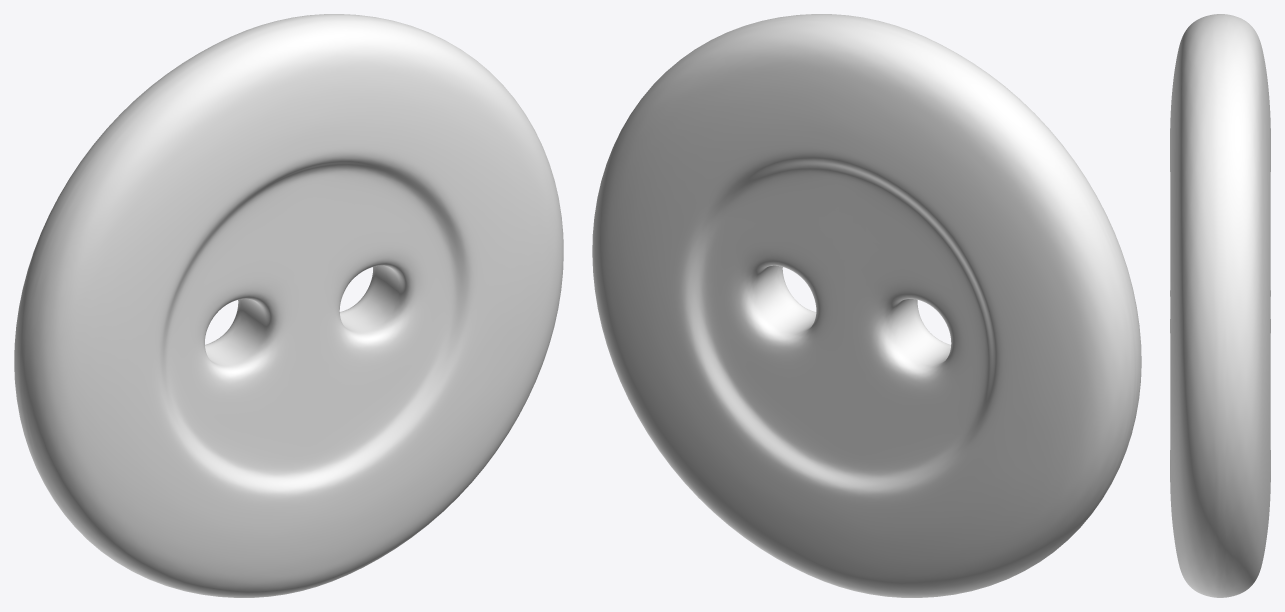
Rendered from website_3d_knppi.glb.
3 views of the same model, side by side, from view 1: azimuth 30°, elevation 25°; view 2: azimuth 150°, elevation 25°; view 3: azimuth 270°, elevation 25° (orthographic). The views are drawn at different scales.
Visible parts, largest first — view 1: Knöppi; view 2: Knöppi; view 3: Knöppi.
Boxes of the visible parts, bbox=[...] form: Knöppi: bbox=[14, 14, 563, 597]; Knöppi: bbox=[592, 14, 1141, 597]; Knöppi: bbox=[1170, 14, 1270, 597].
Size of the model in its own units: 1 by 1.01 by 0.1731.
1 material, 1 textured.
